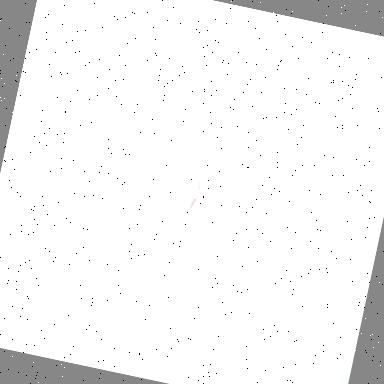pbw: (188, 180, 204, 198), (187, 191, 198, 210)
